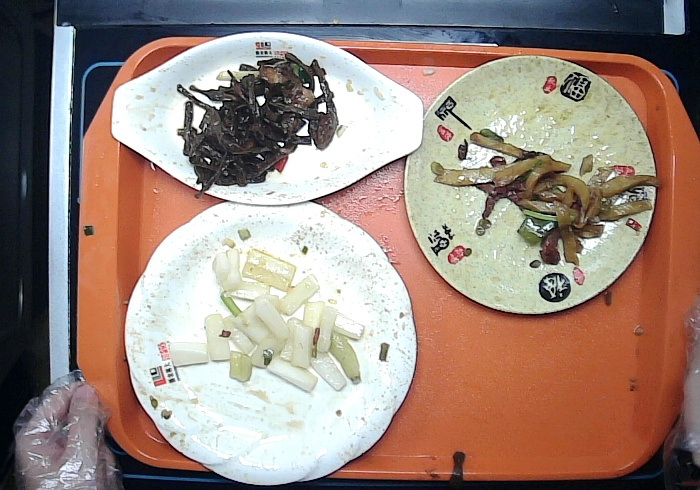NLDX-Bai_Zhe_Yuan_Pan: (122, 201, 415, 485)
NLDX-Fu_Zi_Yuan_Pan: (401, 55, 657, 317)
NLDX-Yu_Pan: (108, 31, 423, 208)
